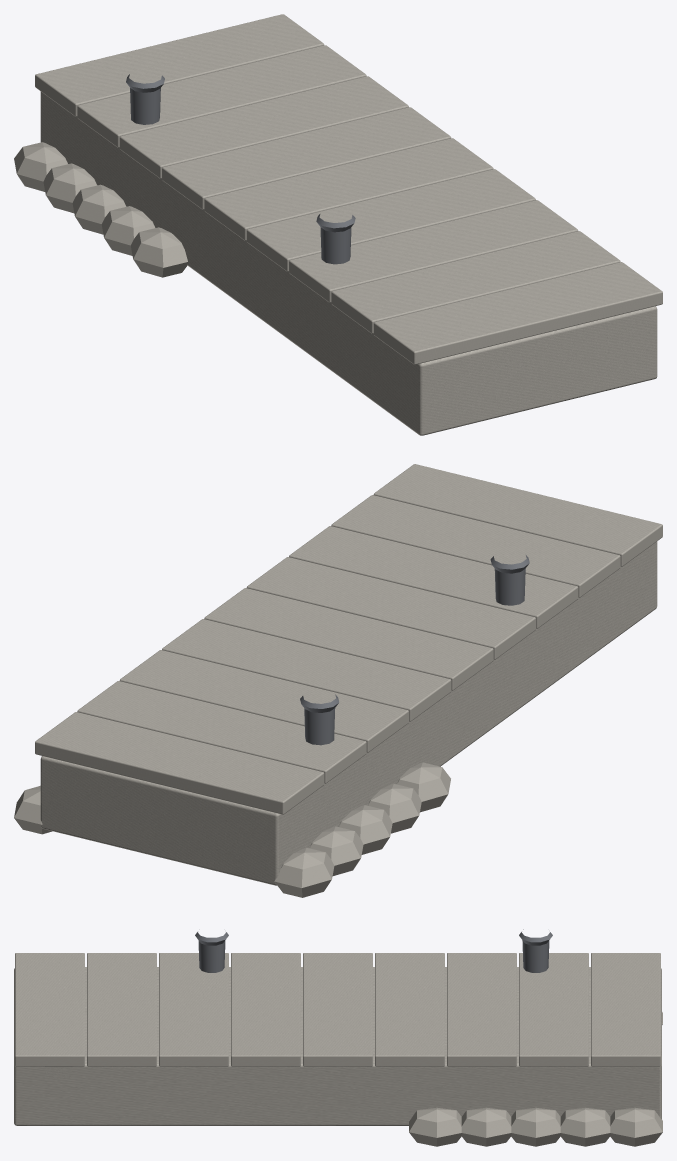
File: greek-island-village-and-harbour-stone-jetty-59a9ea9a__37102.glb
3 views of the same model, one above another, from view 1: azimuth 30°, elevation 25°; view 2: azimuth 150°, elevation 25°; view 3: azimuth 270°, elevation 25° (orthographic). The views are drawn at different scales.
Parts seen in each view (by area): view 1: stone-jetty; view 2: stone-jetty; view 3: stone-jetty.
Boxes of the visible parts, <box> form: stone-jetty: <box>14,14,662,435</box>; stone-jetty: <box>14,464,662,897</box>; stone-jetty: <box>14,929,662,1146</box>.
Size of the model in its own units: 3.44 by 1.49 by 7.21.
Materials: 2 (1 with a texture image).
